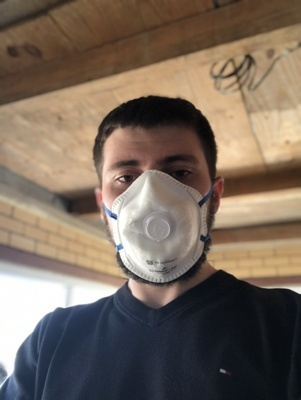good: (104, 144, 213, 285)
